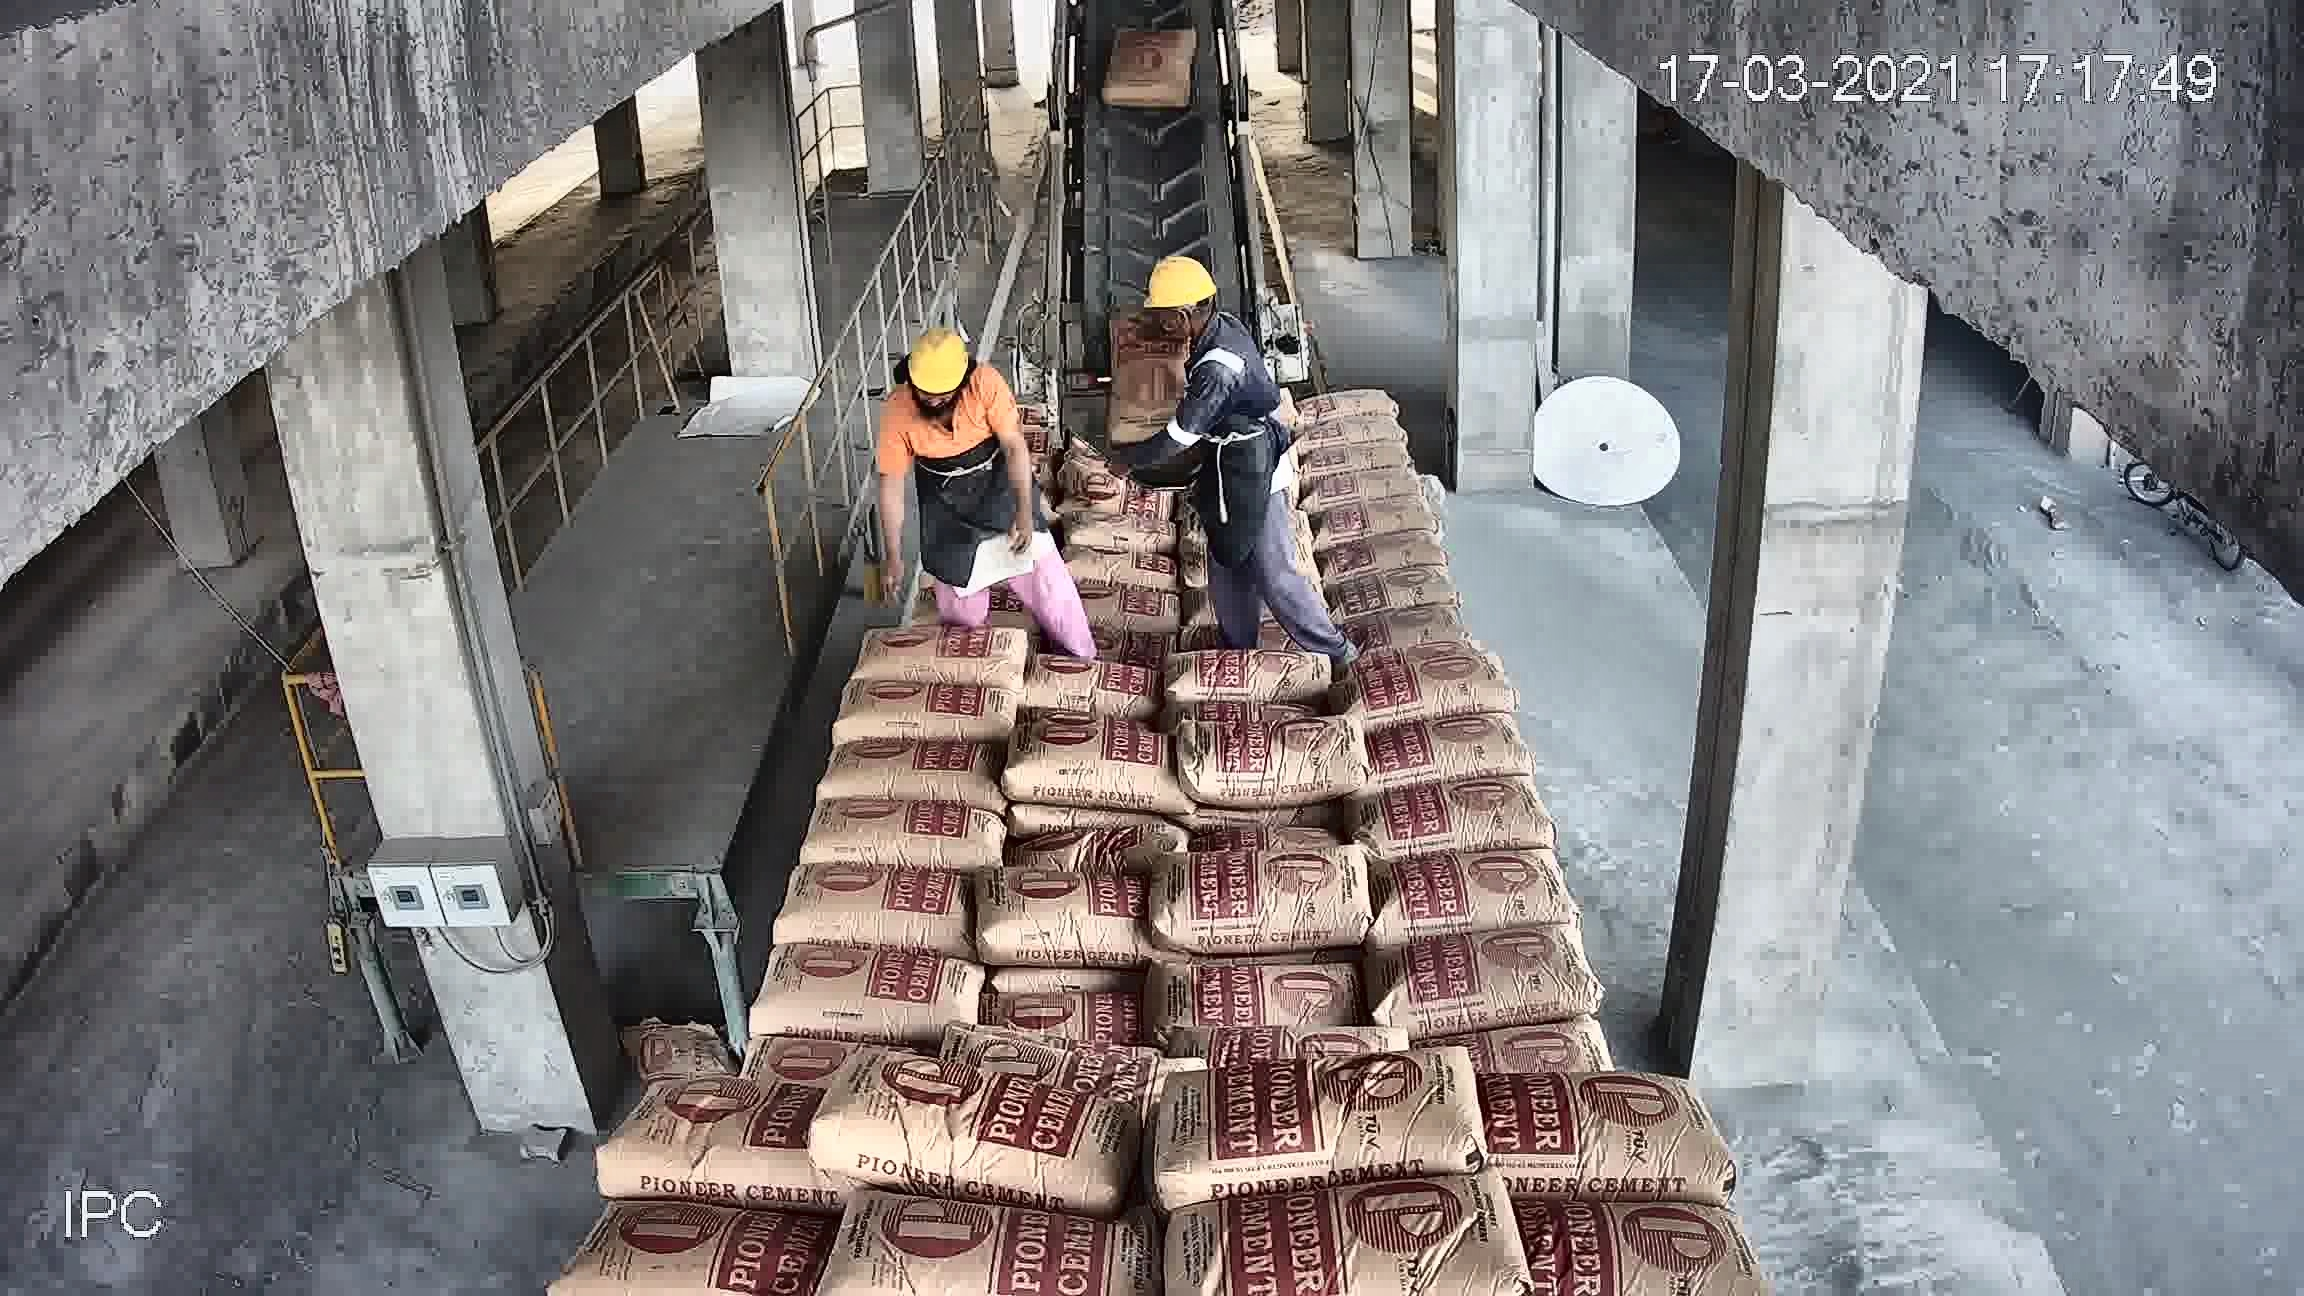bag: (1109, 21, 1199, 112)
bag_h: (1146, 1055, 1478, 1201), (801, 1059, 1109, 1204), (1160, 1177, 1522, 1296), (829, 1188, 1174, 1294), (1480, 1076, 1737, 1204), (592, 1086, 831, 1222), (1510, 1177, 1768, 1291), (579, 1188, 875, 1282), (1364, 919, 1593, 1032), (752, 946, 991, 1044), (775, 851, 980, 956), (1158, 862, 1377, 954), (1345, 769, 1556, 864), (1367, 848, 1575, 943), (965, 873, 1158, 968), (1147, 961, 1366, 1044), (1180, 725, 1375, 810), (1002, 722, 1184, 809), (799, 798, 1014, 869), (972, 1030, 1177, 1105), (813, 733, 1013, 809), (1351, 707, 1532, 790), (1003, 817, 1188, 889), (1329, 646, 1514, 715), (836, 679, 1016, 748), (851, 619, 1032, 688), (1157, 646, 1340, 711), (991, 975, 1152, 1048), (1429, 1022, 1609, 1081), (995, 657, 1157, 717), (1313, 595, 1475, 654), (1060, 567, 1184, 638), (1326, 562, 1462, 623), (1293, 460, 1424, 511), (1062, 506, 1179, 562), (1052, 543, 1184, 590), (1321, 527, 1445, 576), (1313, 500, 1431, 549), (1288, 446, 1419, 484), (1293, 411, 1412, 453), (1288, 385, 1396, 426)
bag_v: (1103, 301, 1185, 445)
belt: (1036, 25, 1268, 410)
